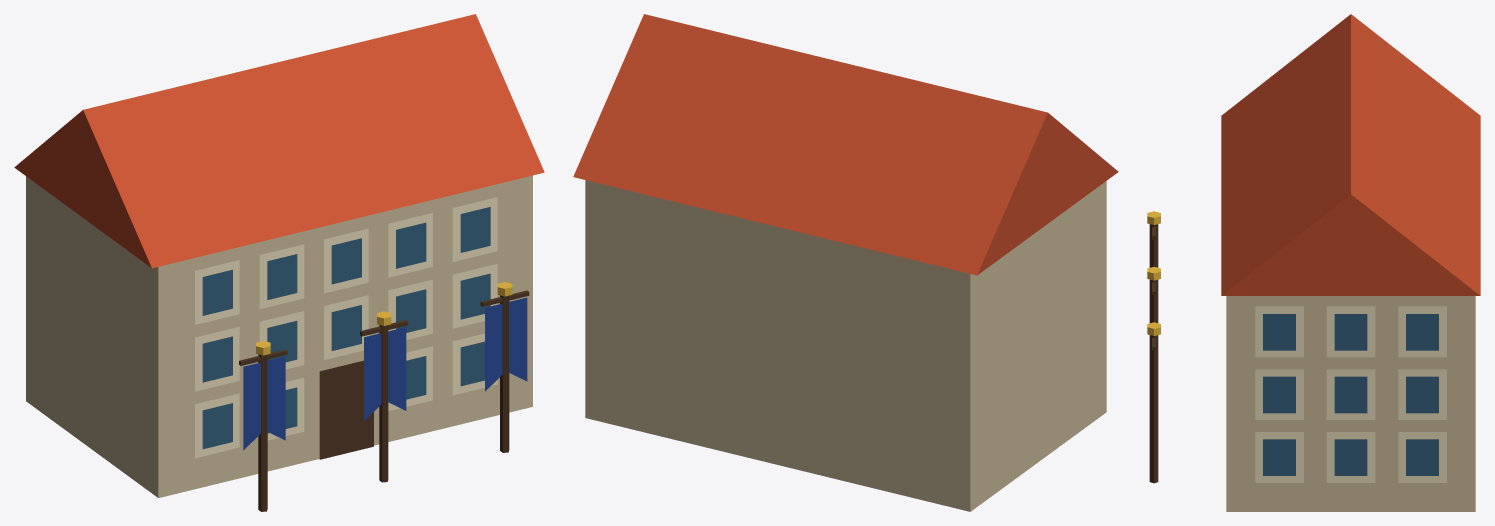
Rendered from building_basilikoi_paides.fbx.
The picture shows the model from 3 angles, left to right: view 1: azimuth 30°, elevation 25°; view 2: azimuth 150°, elevation 25°; view 3: azimuth 270°, elevation 25°; orthographic projection. The views are drawn at different scales.
Parts seen in each view (by area): view 1: building_basilikoi_paides; view 2: building_basilikoi_paides; view 3: building_basilikoi_paides.
Boxes of the visible parts, left/top/right/bottom form: building_basilikoi_paides: left=14, top=14, right=544, bottom=511; building_basilikoi_paides: left=573, top=14, right=1118, bottom=511; building_basilikoi_paides: left=1147, top=14, right=1480, bottom=511.
Bounding box in the file's own units: 65 × 54.1 × 50.79.
